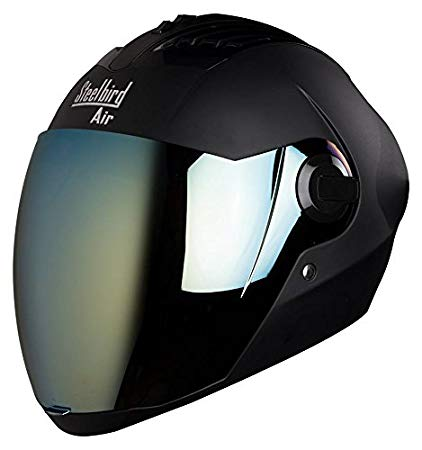with_helmet: (8, 6, 416, 444)
